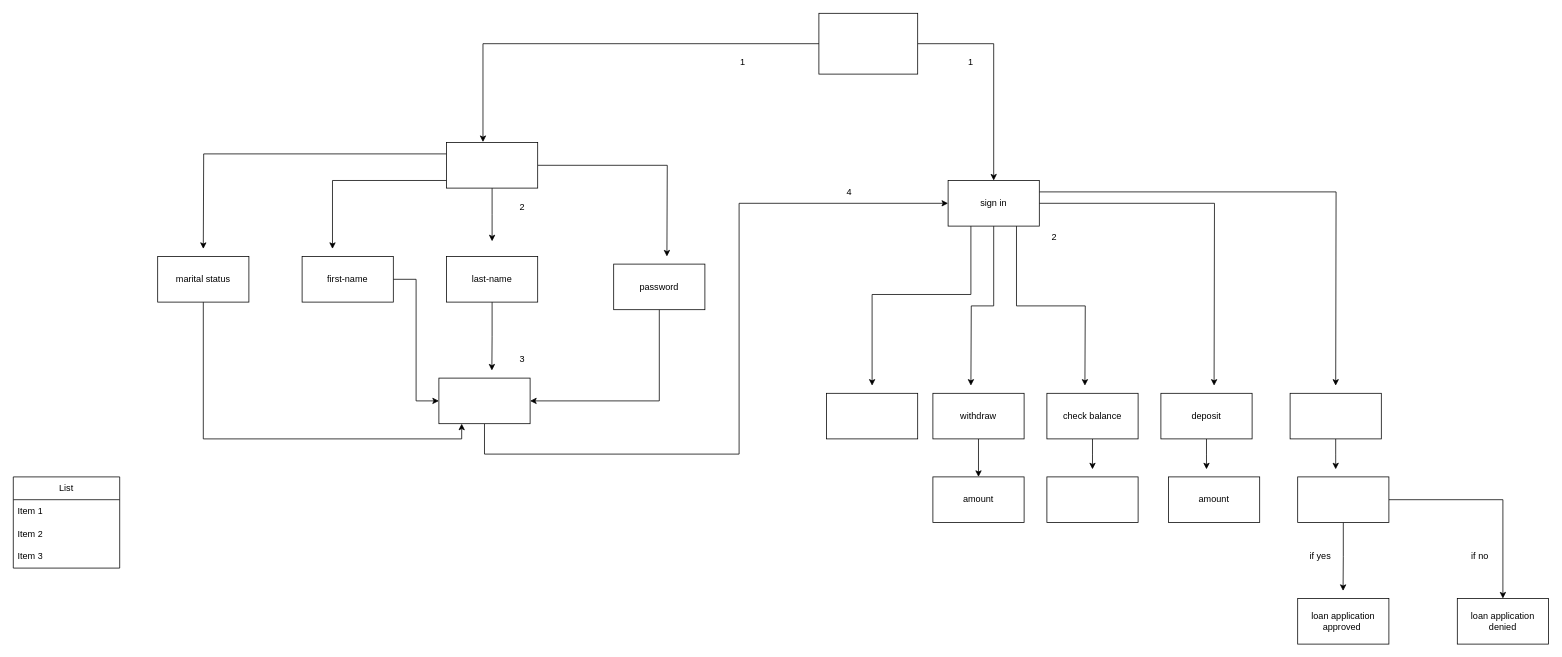
Image size: 1562x657. Some labels were removed from this diagram. Each missing label, with the centre of its shape:
"apply for a loan" belongs at (x=1335, y=416).
"bank system" belongs at (x=868, y=43).
"id" belongs at (x=484, y=400).
"register" belongs at (x=492, y=165).
"salary" belongs at (x=1343, y=499).
"sign out" belongs at (x=872, y=416).
"the current balance" belongs at (x=1092, y=499).
